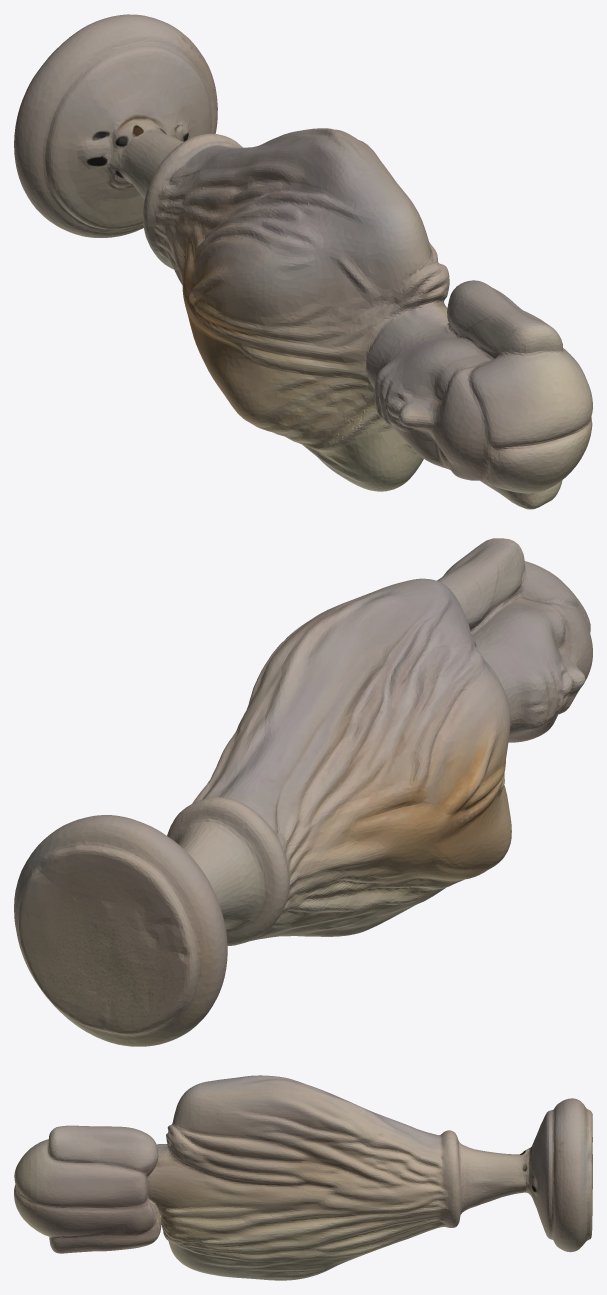
The model's file is princess-leia-bust.glb.
3 renders of one model, top to bottom at view 1: azimuth 30°, elevation 25°; view 2: azimuth 150°, elevation 25°; view 3: azimuth 270°, elevation 25°, orthographic. The views are drawn at different scales.
Visible parts, largest first — view 1: princess leia bust_textured.obj; view 2: princess leia bust_textured.obj; view 3: princess leia bust_textured.obj.
Part boxes in pixels (x1,y1,x2,y2): princess leia bust_textured.obj: (14,14,592,509); princess leia bust_textured.obj: (14,538,592,1046); princess leia bust_textured.obj: (14,1075,592,1280).
Bounding box in the file's own units: 0.6078 × 0.7558 × 1.99.
1 material, 1 textured.
